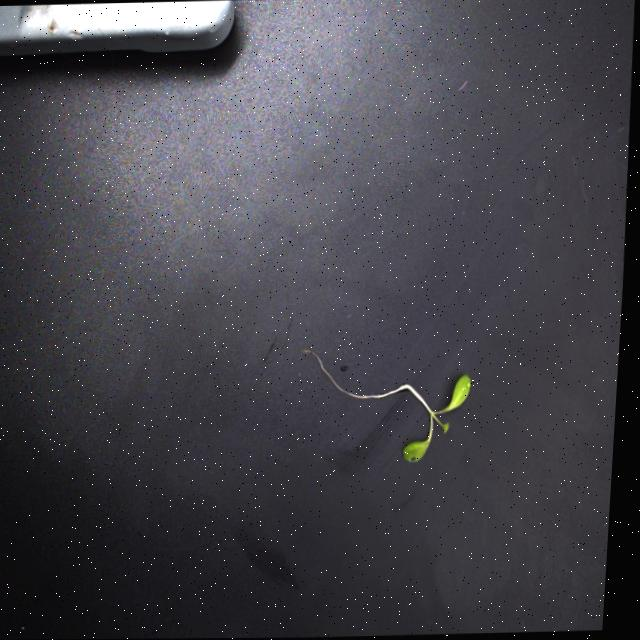leaf: (403, 370, 476, 464)
root: (301, 340, 407, 408)
steb: (405, 376, 433, 414)
